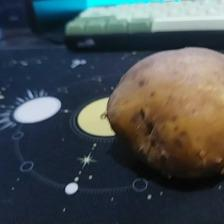Damaged potato: (105, 43, 224, 190)
